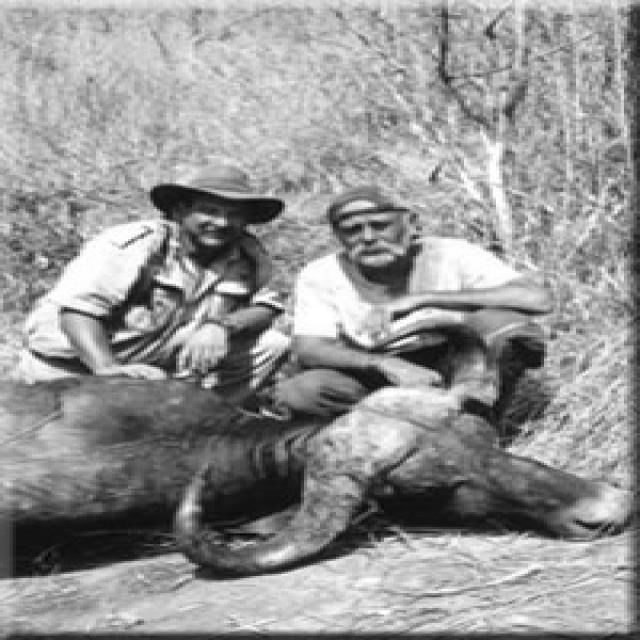Buffalo: (3, 320, 637, 574)
